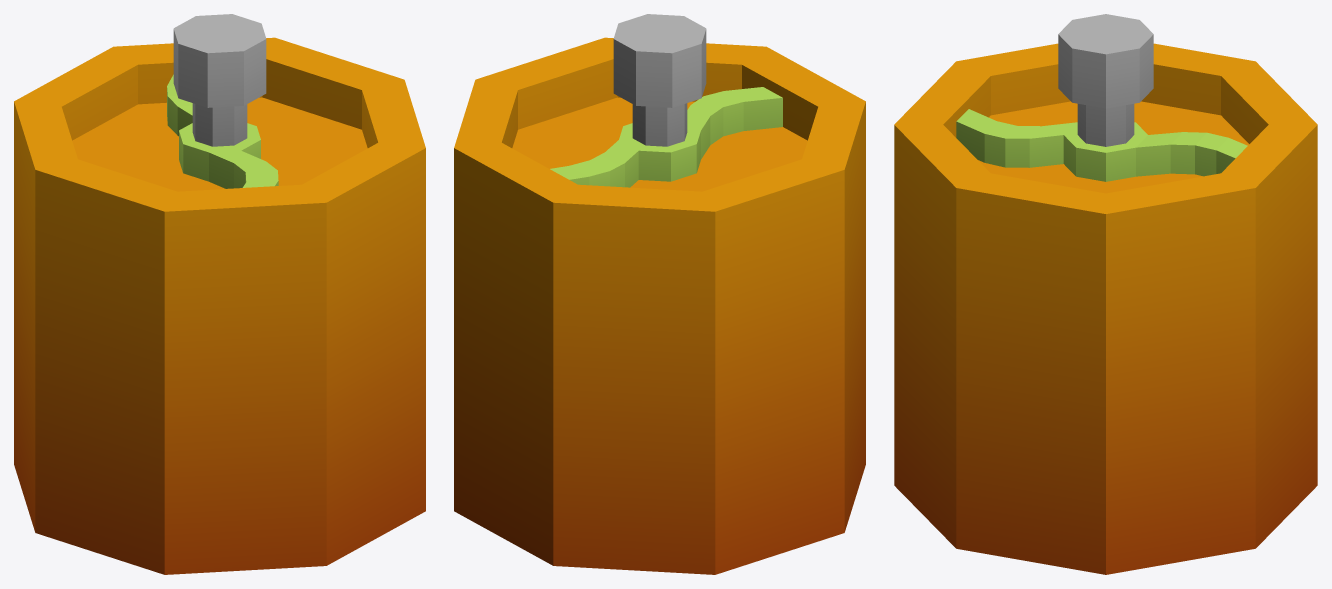
Rendered from barell.fbx.
The picture shows the model from 3 angles, left to right: view 1: azimuth 30°, elevation 25°; view 2: azimuth 150°, elevation 25°; view 3: azimuth 270°, elevation 25°; orthographic projection.
Parts seen in each view (by area): view 1: barell, rotating_shaft; view 2: barell, rotating_shaft; view 3: barell, rotating_shaft.
Part boxes in pixels (bbox=[...]): barell: bbox=[14, 37, 425, 574]; rotating_shaft: bbox=[167, 14, 278, 188]; barell: bbox=[454, 37, 865, 574]; rotating_shaft: bbox=[550, 14, 782, 187]; barell: bbox=[894, 43, 1317, 574]; rotating_shaft: bbox=[956, 14, 1247, 181].
Bounding box in the file's own units: 627 × 738 × 627.
Materials: 1 (1 with a texture image).
